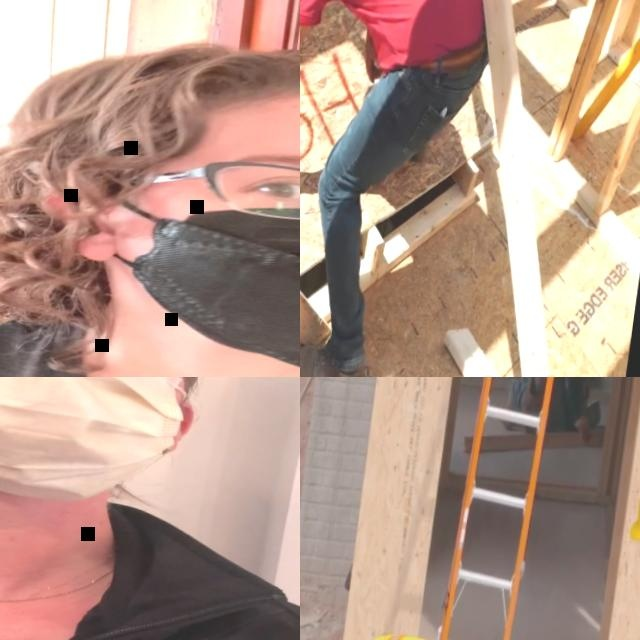Hardhat: (628, 472, 640, 547)
Mask: (77, 173, 300, 377), (0, 377, 204, 514)
NO-Hardhat: (38, 15, 300, 167)
NO-Safety Vest: (0, 470, 300, 640), (0, 294, 300, 377), (313, 0, 507, 79)
Person: (0, 0, 300, 377), (300, 0, 523, 377), (0, 377, 300, 640), (500, 377, 603, 443)
